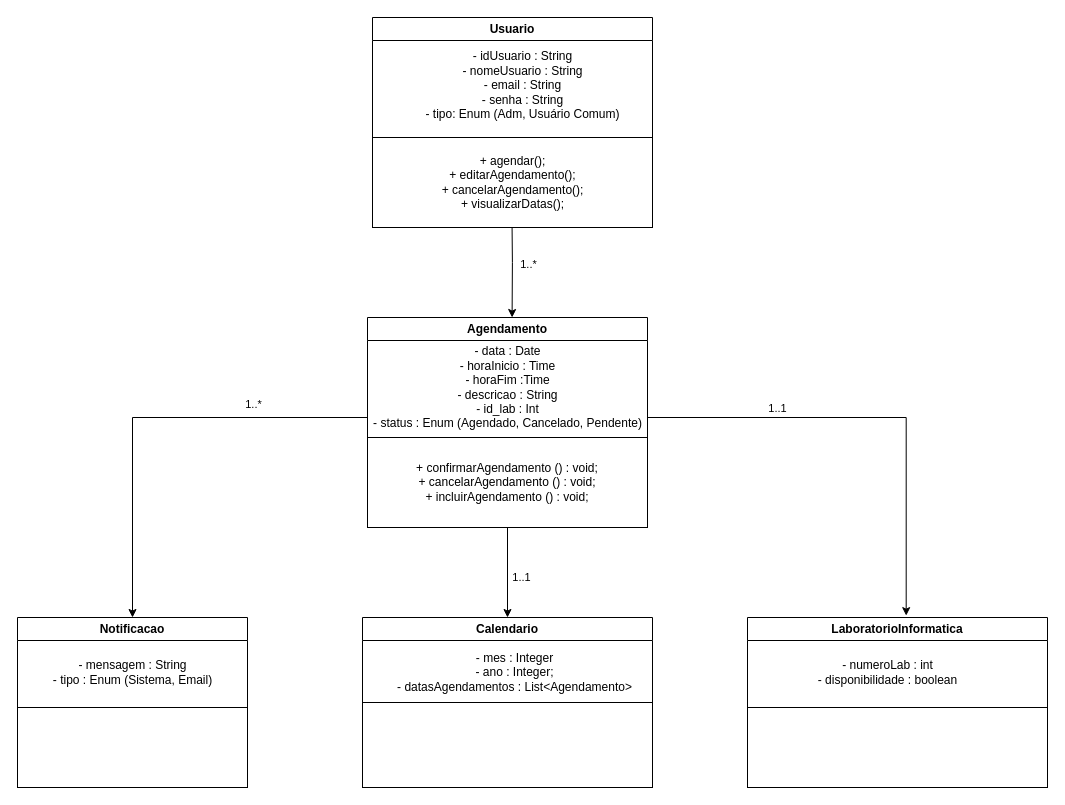
The diagram is 1065 pixels wide and 805 high, and some of its shapes have lost their labels. The centre of each missing label's shape, as x and y in pixels:
+ enviarNotificacao() : void;: the point at 132,747
+ listarAgendas() : void;: the point at 507,745
+ verificarDisponibilidade() : void; + reservarLab() : void;: the point at 897,747
